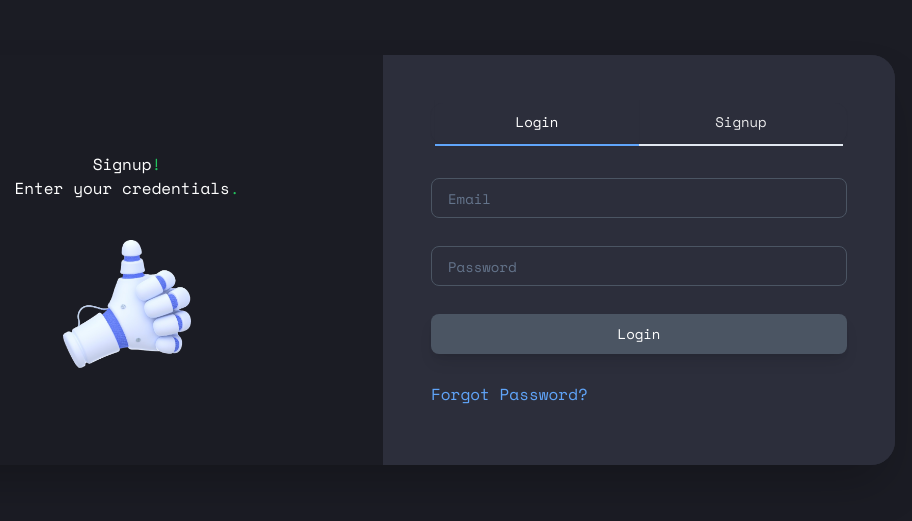
Test: Authentication Component › switches to signup tab and renders signup form
Note: Find and click the signup tab
Click the tab with aria-label "Signup tab".
click(741, 123)  # box x1=639 y1=100 x2=843 y2=146
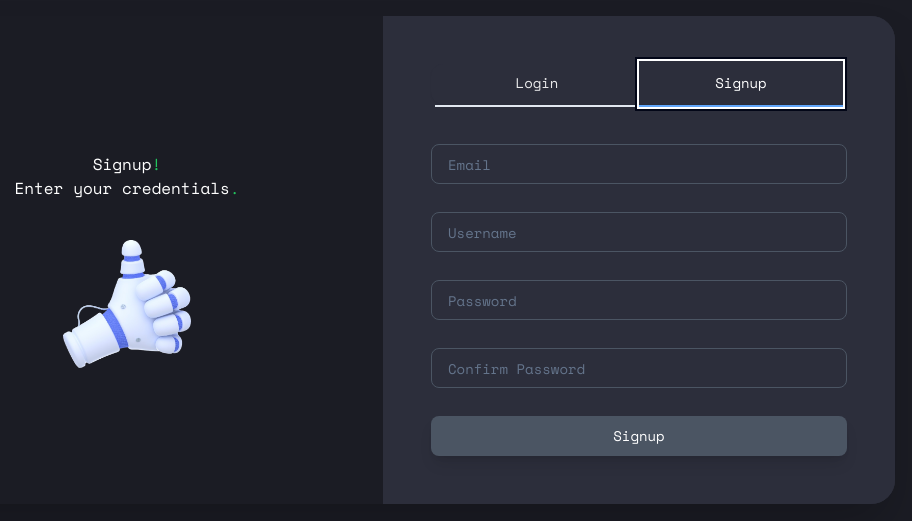
expect the field with placeholder "Username" is shown: met, box x1=431 y1=212 x2=847 y2=252
expect the password field with placeholder "Password" is shown: met, box x1=431 y1=280 x2=847 y2=320
expect the password field with placeholder "Confirm Password" is shown: met, box x1=431 y1=348 x2=847 y2=388
